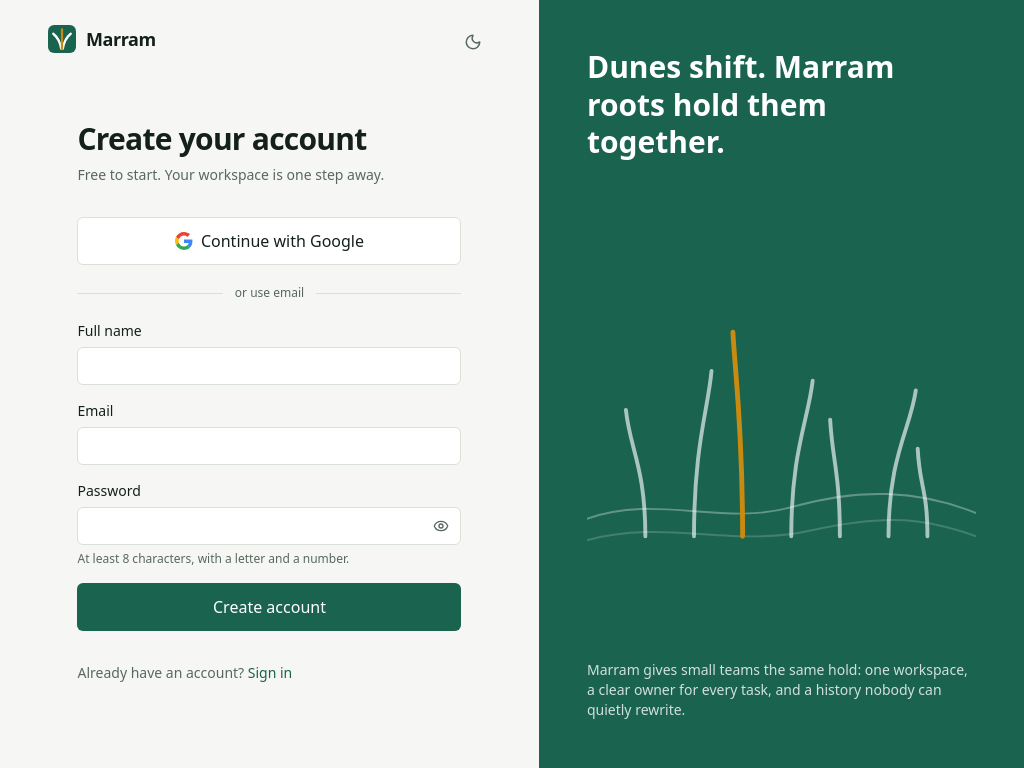
Scenario: Register form › tells the person to check their inbox when confirmation is required
Type "Alex Johnson" into the field labelled "Full name" at (270, 366), box [78, 347, 462, 385]
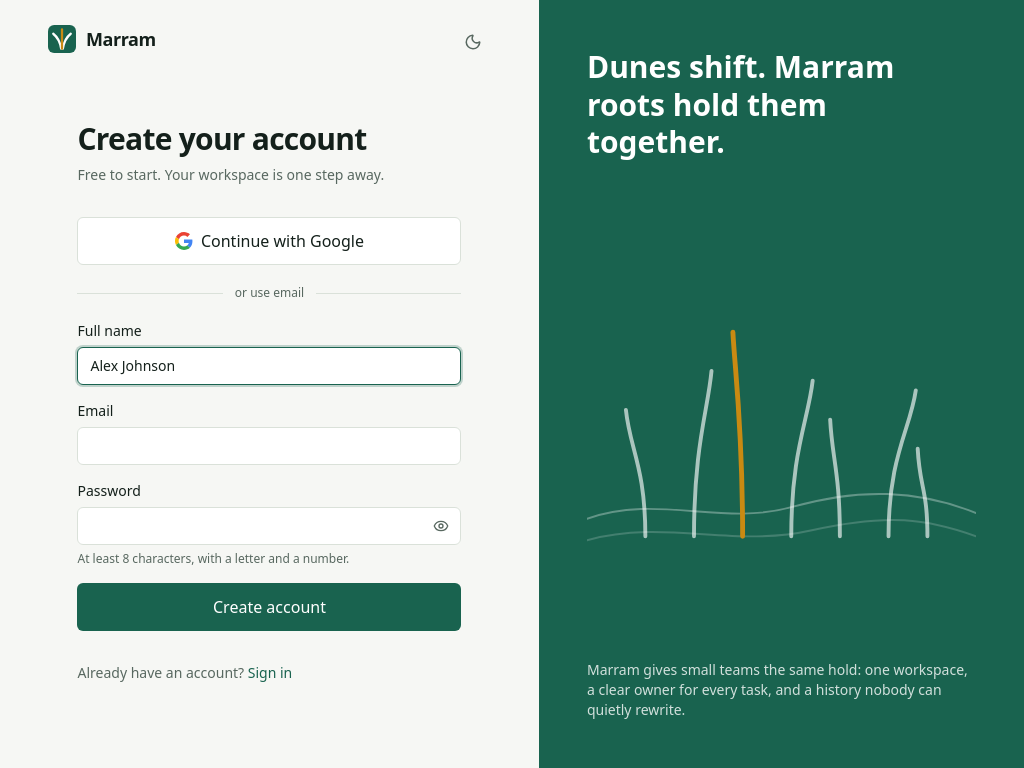
Type "alex@example.com" into the field labelled "Email" at (270, 446), box [78, 427, 462, 465]
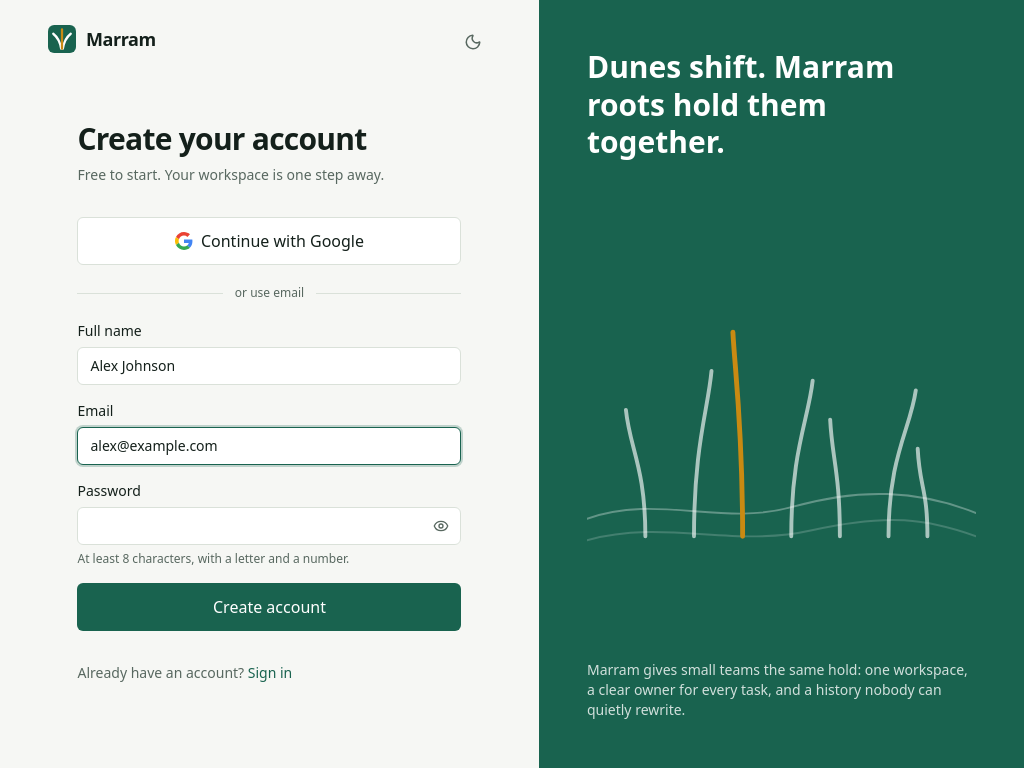
Type "StrongPass123" into the password field labelled "Password" at (270, 526), box [78, 507, 462, 545]
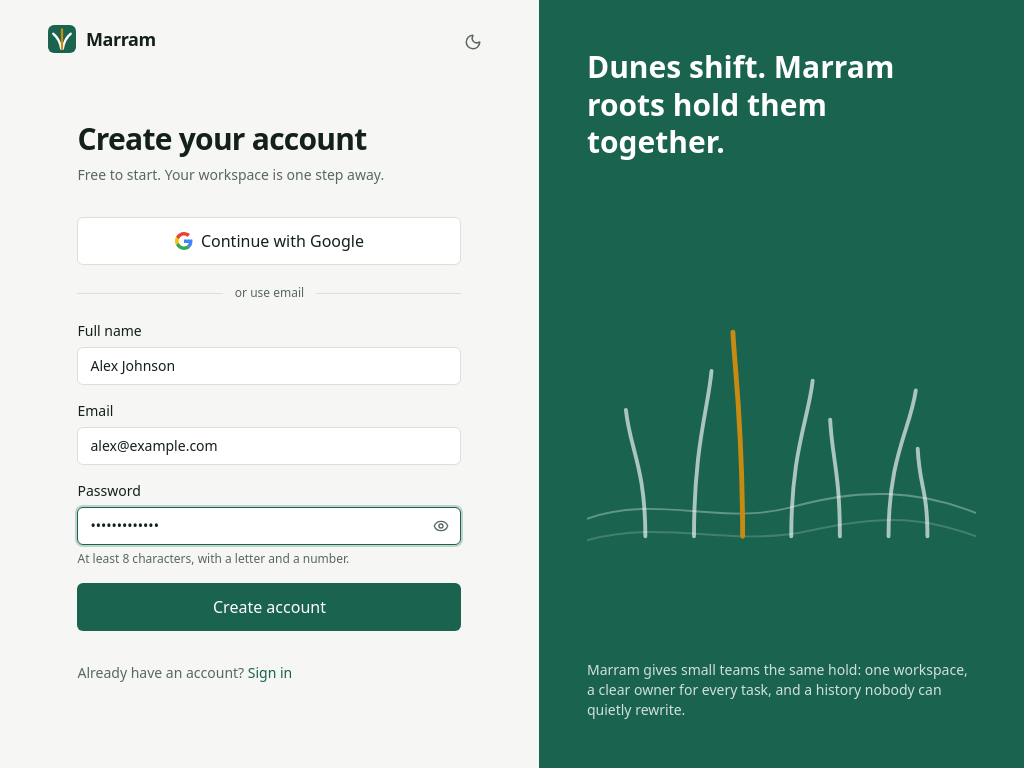
Click the button "Create account" at (270, 607), box [78, 583, 462, 631]
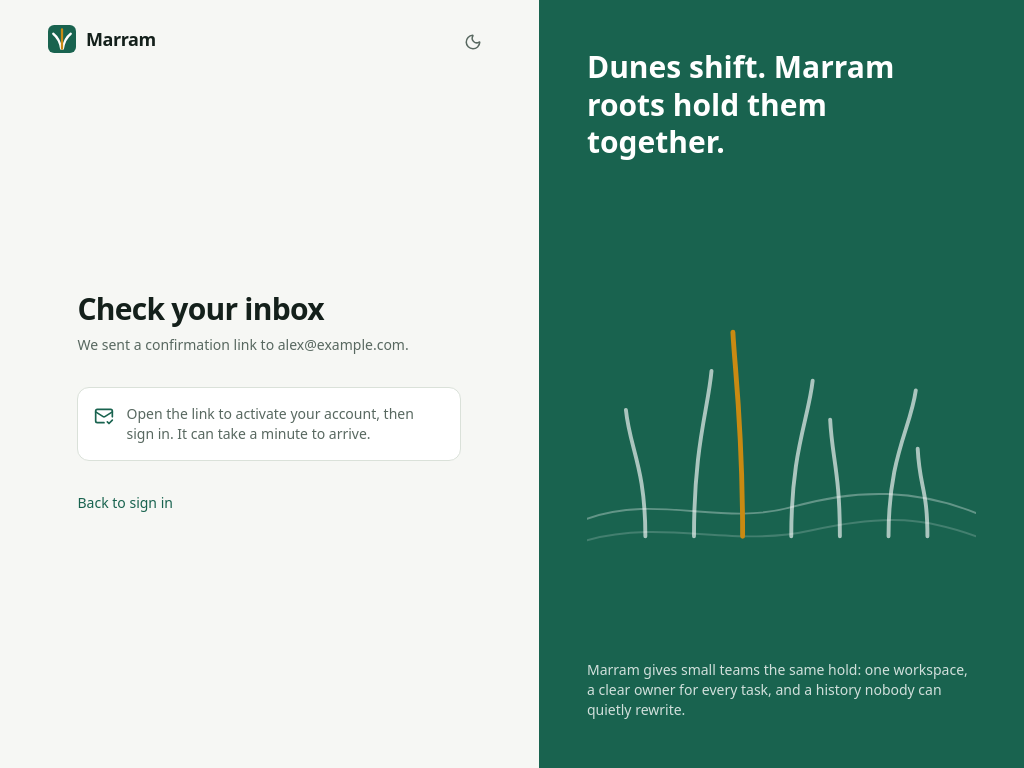
Check: the heading "Check your inbox" is shown, box [78, 288, 324, 329]
